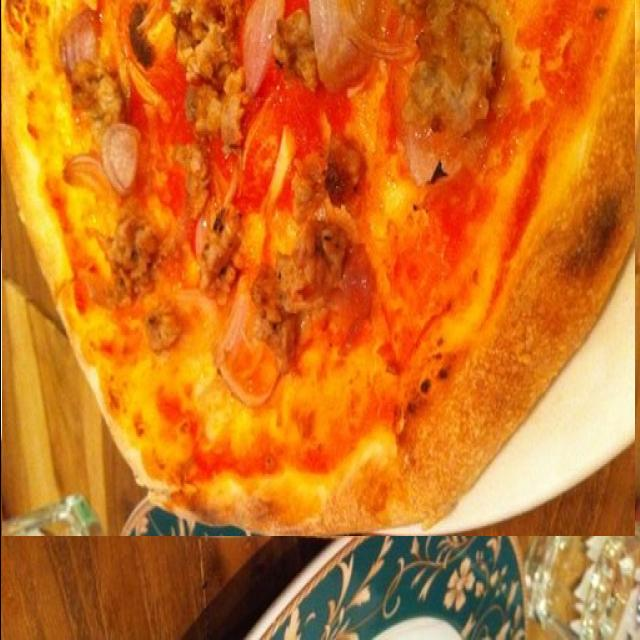pizza: (1, 0, 634, 536)
